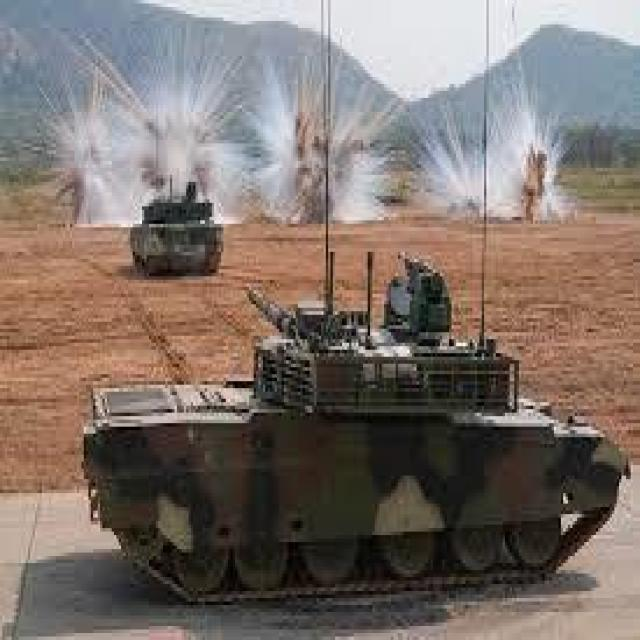Tanks: (87, 308, 627, 598), (130, 187, 221, 282)
